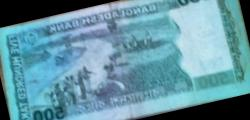500 taka: (11, 0, 239, 120)
